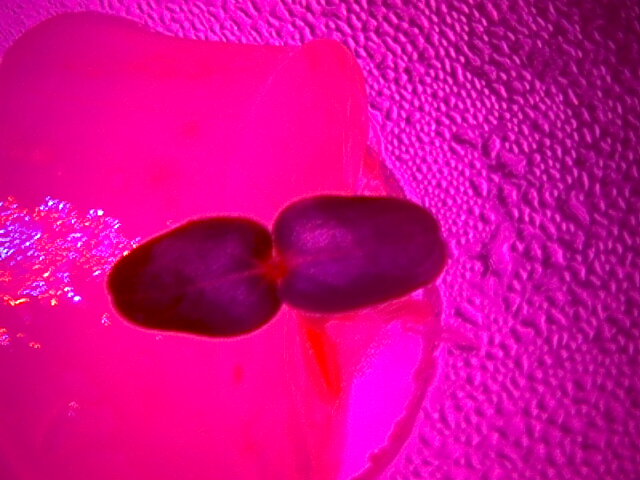seedling: (112, 192, 449, 338)
